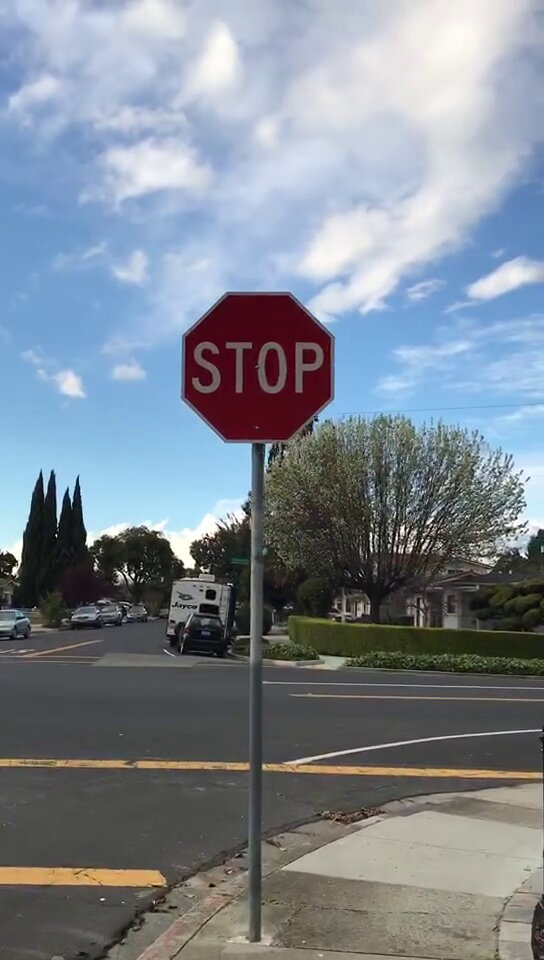stop_sign: (185, 293, 335, 439)
